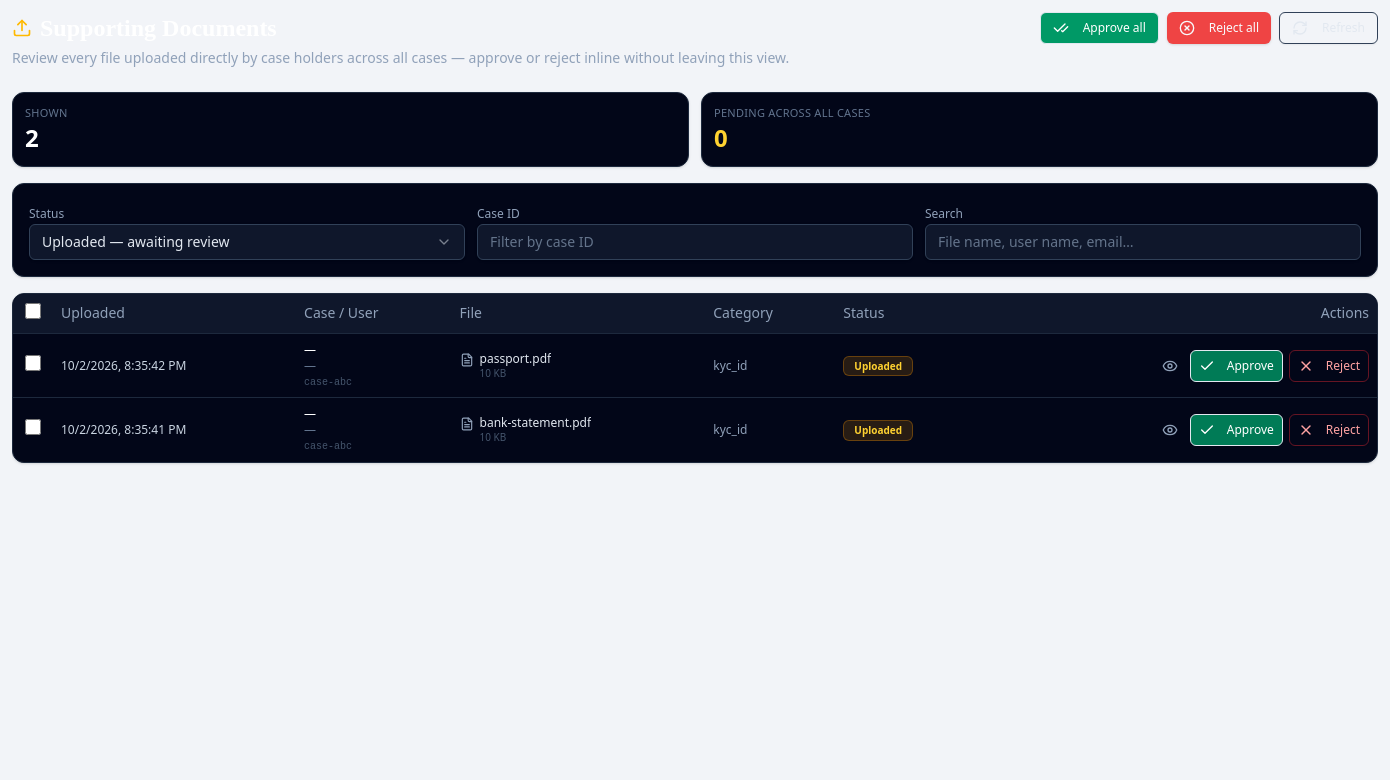
Test: SupportingDocumentsTab — ghost selections pruned on server reload › toolbar count drops from 2 to 1 when a selected doc disappears on reload
The image size is (1390, 780).
Check: the row with test id "row-supporting-doc-10" is shown, box x1=13 y1=334 x2=1377 y2=398
Check: the row with test id "row-supporting-doc-11" is shown, box x1=13 y1=398 x2=1377 y2=462
Click the checkbox named "Select document passport.pdf".
click(33, 363)  # box x1=25 y1=355 x2=41 y2=371
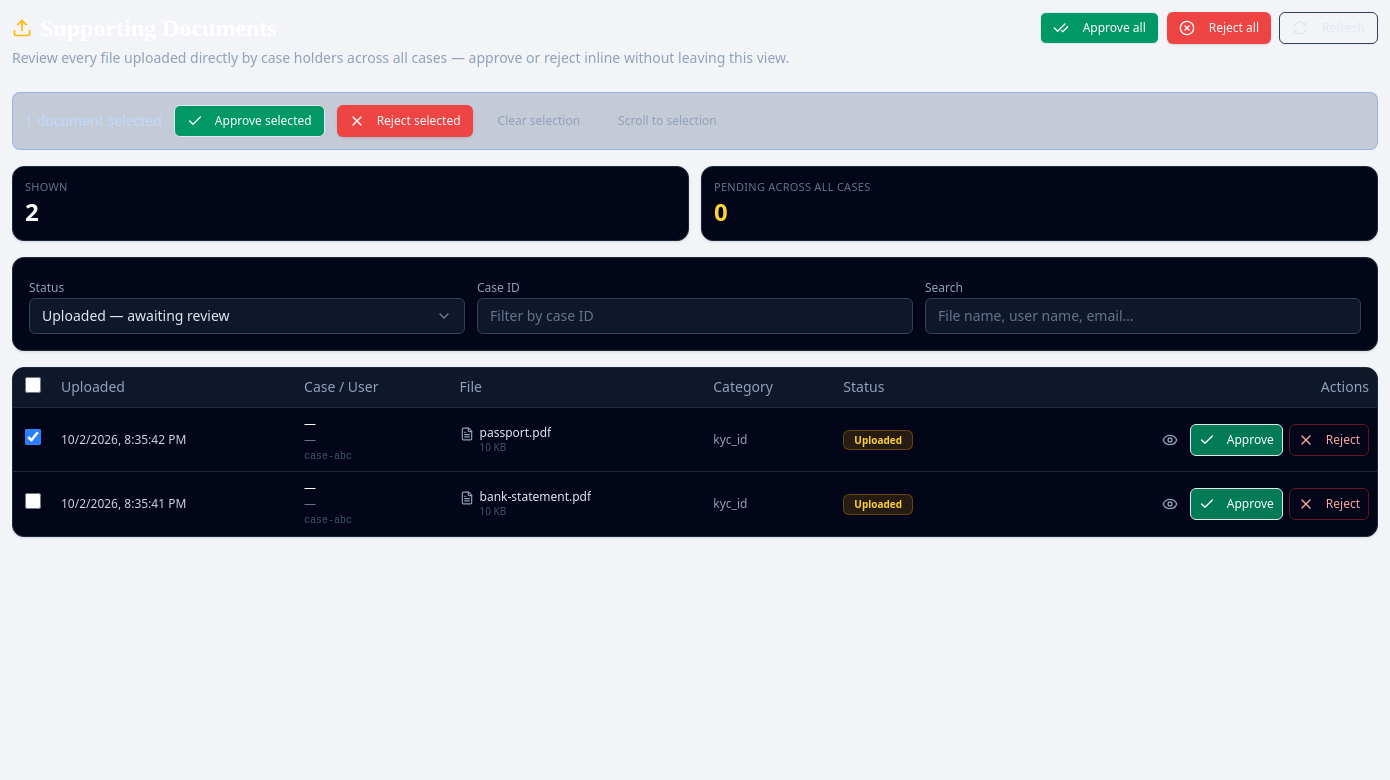
Click the checkbox named "Select document bank-statement.pdf".
click(33, 502)  # box x1=25 y1=494 x2=41 y2=510
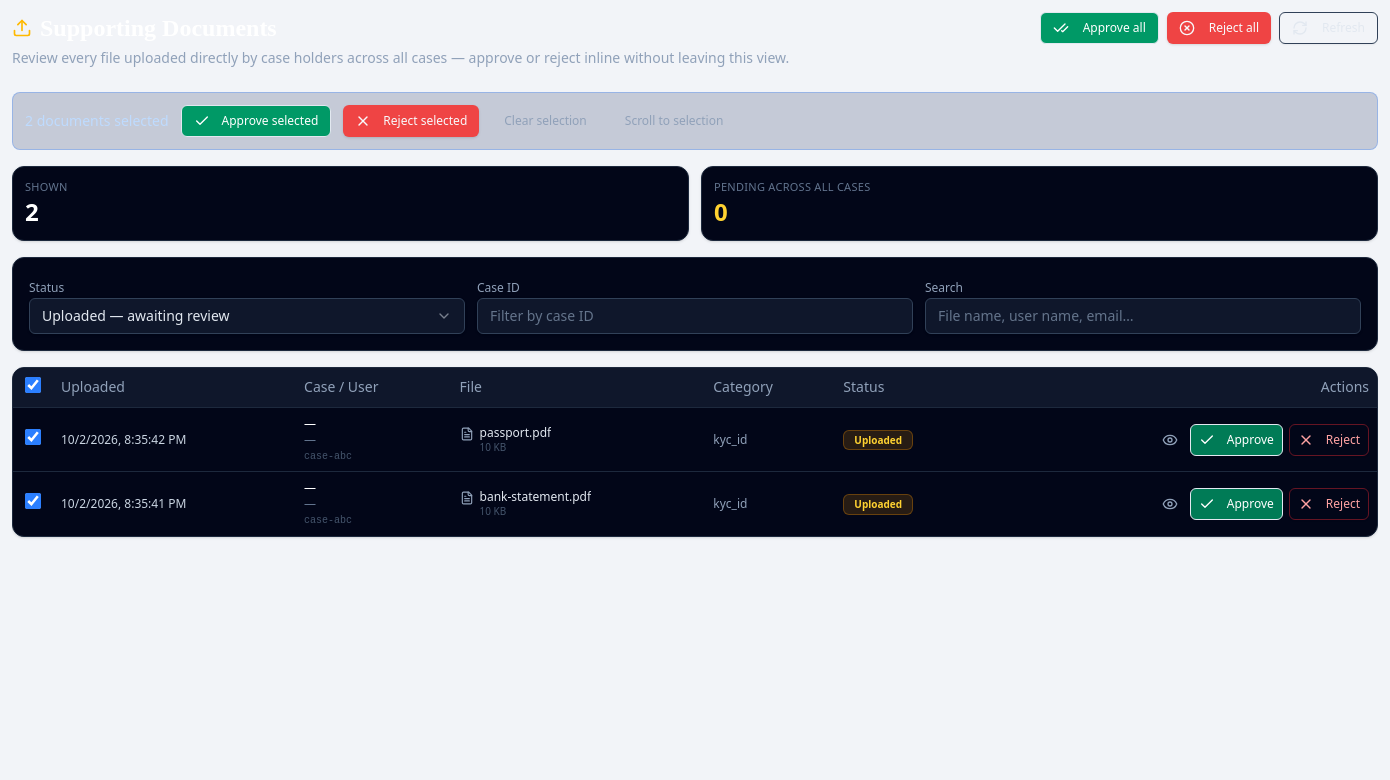
Check: the element with test id "toolbar-selection-supporting-docs" shows "2 documents selected", box x1=12 y1=92 x2=1378 y2=150
Type "case-abc" into the field with test id "filter-supporting-docs-case-id".
click(695, 316); type("case-abc")  # box x1=477 y1=298 x2=913 y2=334
Wait 350 ms
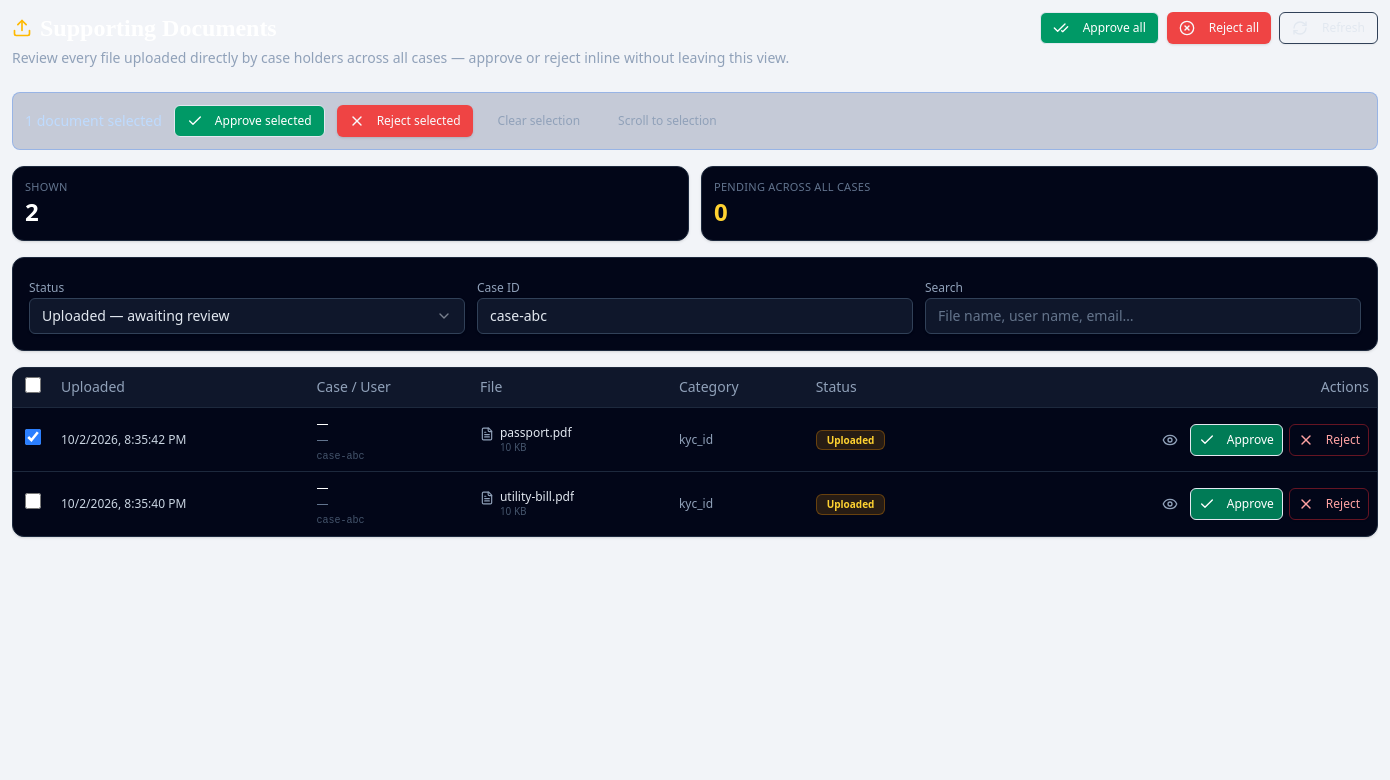
Check: the row with test id "row-supporting-doc-11" is gone
Check: the element with test id "toolbar-selection-supporting-docs" shows "1 document selected", box x1=12 y1=92 x2=1378 y2=150
